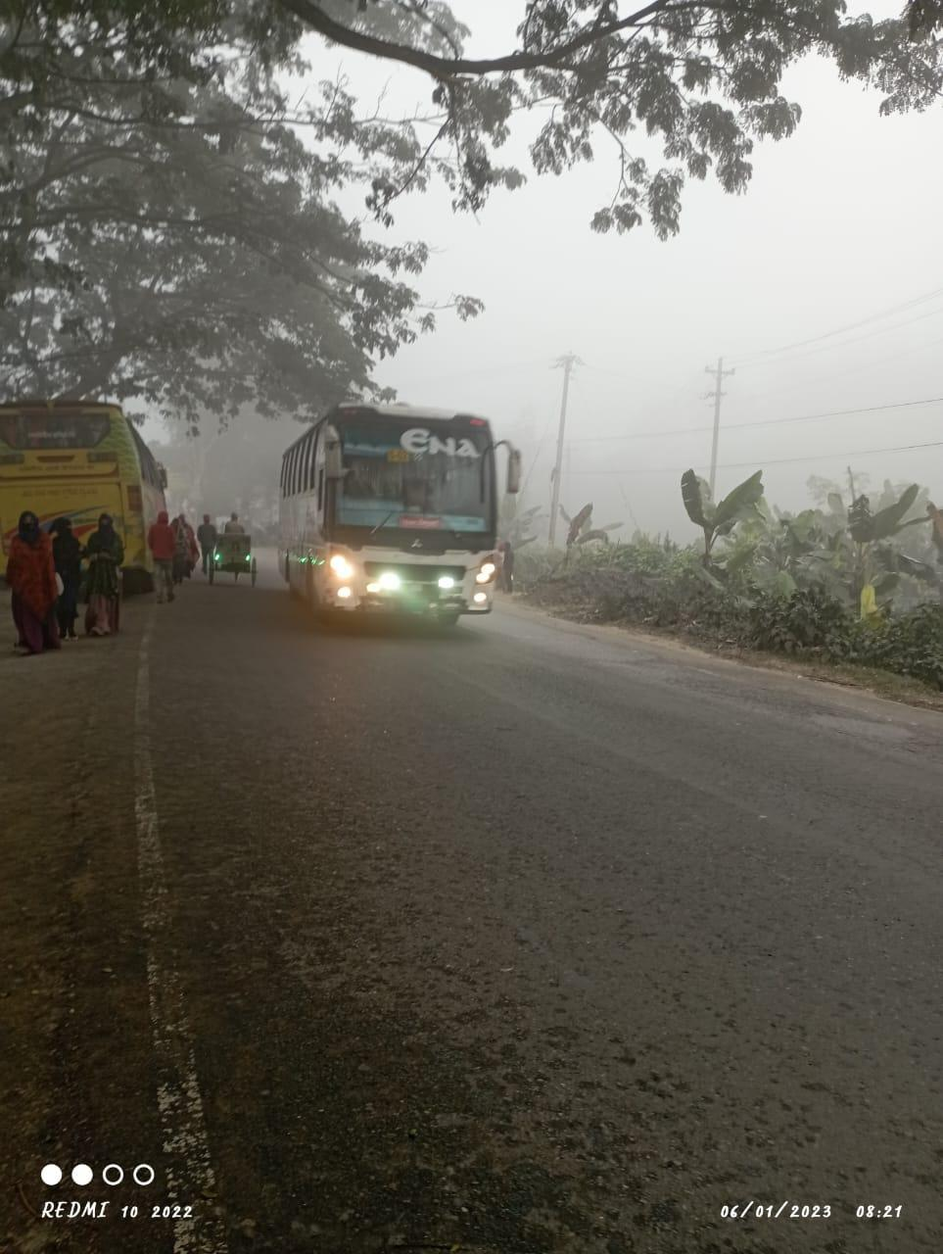Bus: (268, 397, 522, 631), (1, 393, 182, 587)
